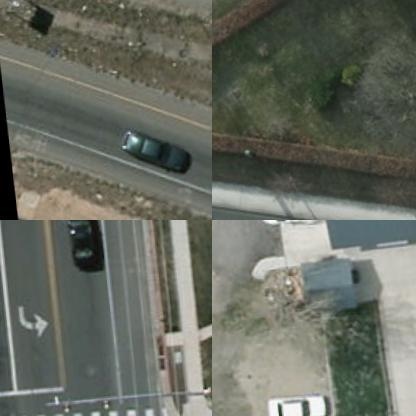car: (112, 123, 188, 180), (256, 391, 326, 415), (63, 220, 96, 268), (250, 220, 318, 232)
